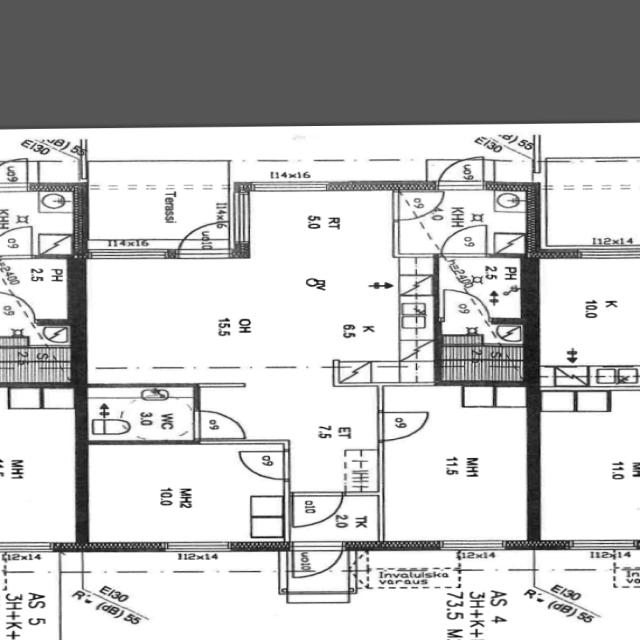door: (391, 188, 536, 255), (0, 267, 66, 323), (289, 491, 347, 529), (290, 542, 347, 578), (434, 156, 491, 191), (192, 408, 251, 441), (237, 447, 292, 482), (438, 222, 493, 257), (376, 410, 434, 442), (175, 221, 231, 254), (394, 189, 445, 222), (0, 292, 37, 322)
window: (88, 244, 179, 263), (228, 188, 256, 246), (564, 537, 640, 552), (252, 181, 333, 194), (160, 539, 235, 553), (575, 246, 640, 262), (438, 538, 511, 552), (0, 540, 60, 554)
zone: (235, 189, 436, 367), (381, 384, 535, 546), (82, 441, 287, 546), (535, 387, 640, 544), (535, 258, 640, 385), (84, 162, 231, 248), (393, 188, 535, 254), (539, 554, 640, 640), (84, 386, 199, 442), (439, 255, 526, 328), (0, 186, 82, 255), (0, 256, 73, 322), (0, 559, 59, 639), (0, 320, 73, 383), (285, 491, 381, 538), (437, 336, 529, 382)
